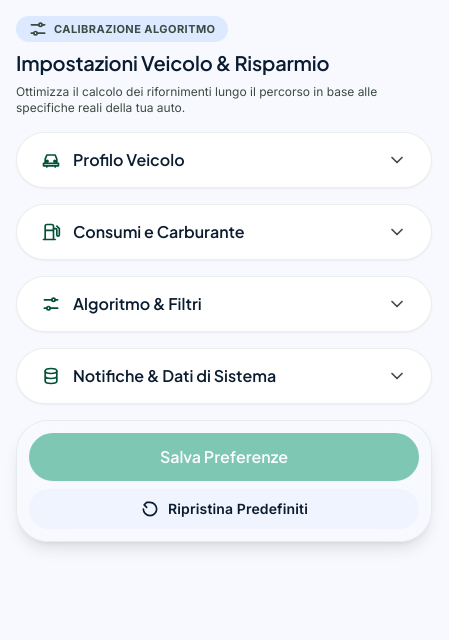
it: SettingsScreen — struttura › si aprono e chiudono col tap: aria-expanded, pannello visibile e chevron ruotato restano coerenti
Click the button "Algoritmo & Filtri" at (137, 304), box [17,277,431,331]
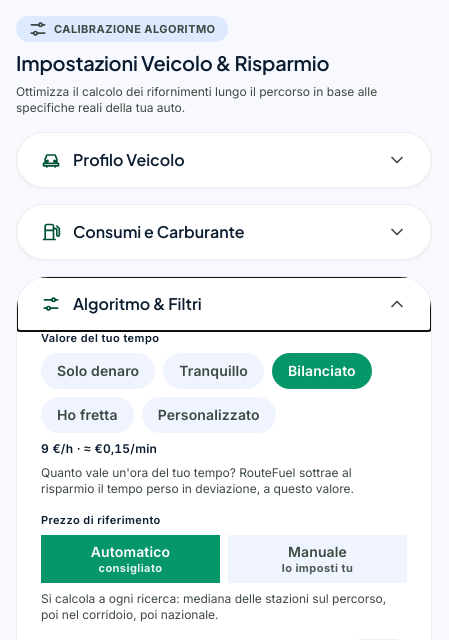
expect the icon with class "rotate-180" is shown: met, box [387,294,407,314]
expect the button "Algoritmo & Filtri" is expanded: met
Click the button "Algoritmo & Filtri" at (137, 304), box [17,277,431,331]
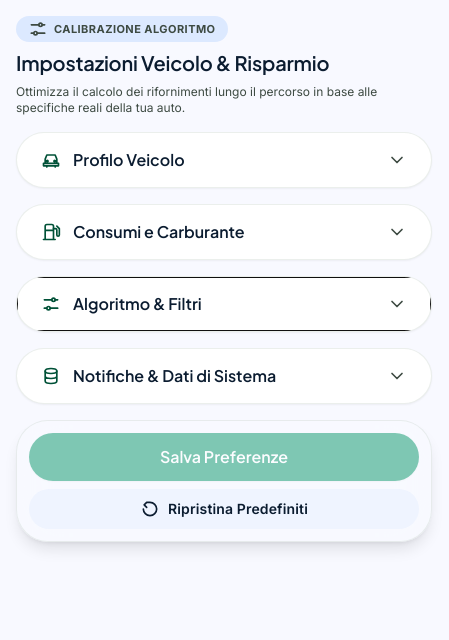
expect the button "Algoritmo & Filtri" is collapsed: met, box [17,277,431,331]
